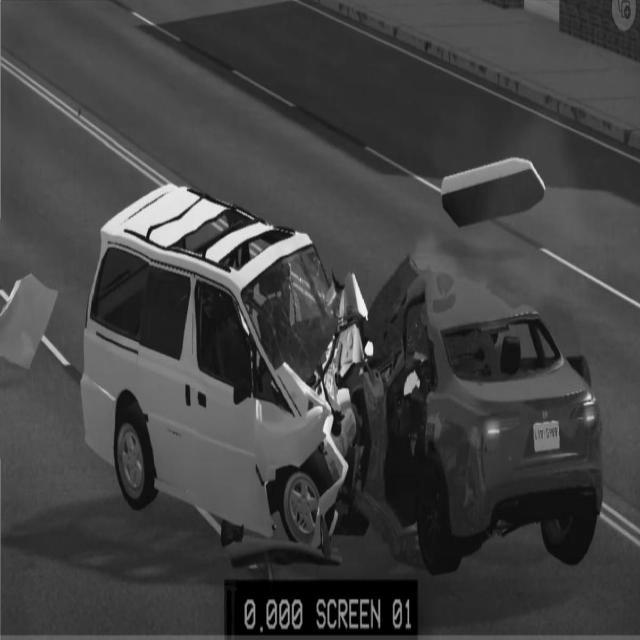accident: (78, 176, 604, 578)
